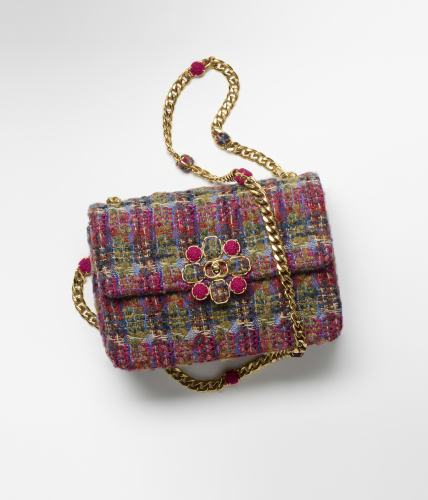channel: (68, 167, 367, 395), (247, 185, 291, 359)
